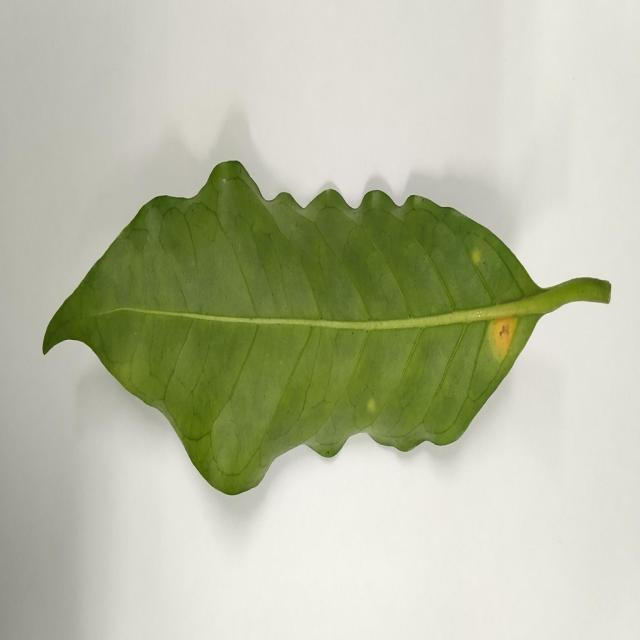Enfermedad-Roya: (41, 159, 613, 499)
